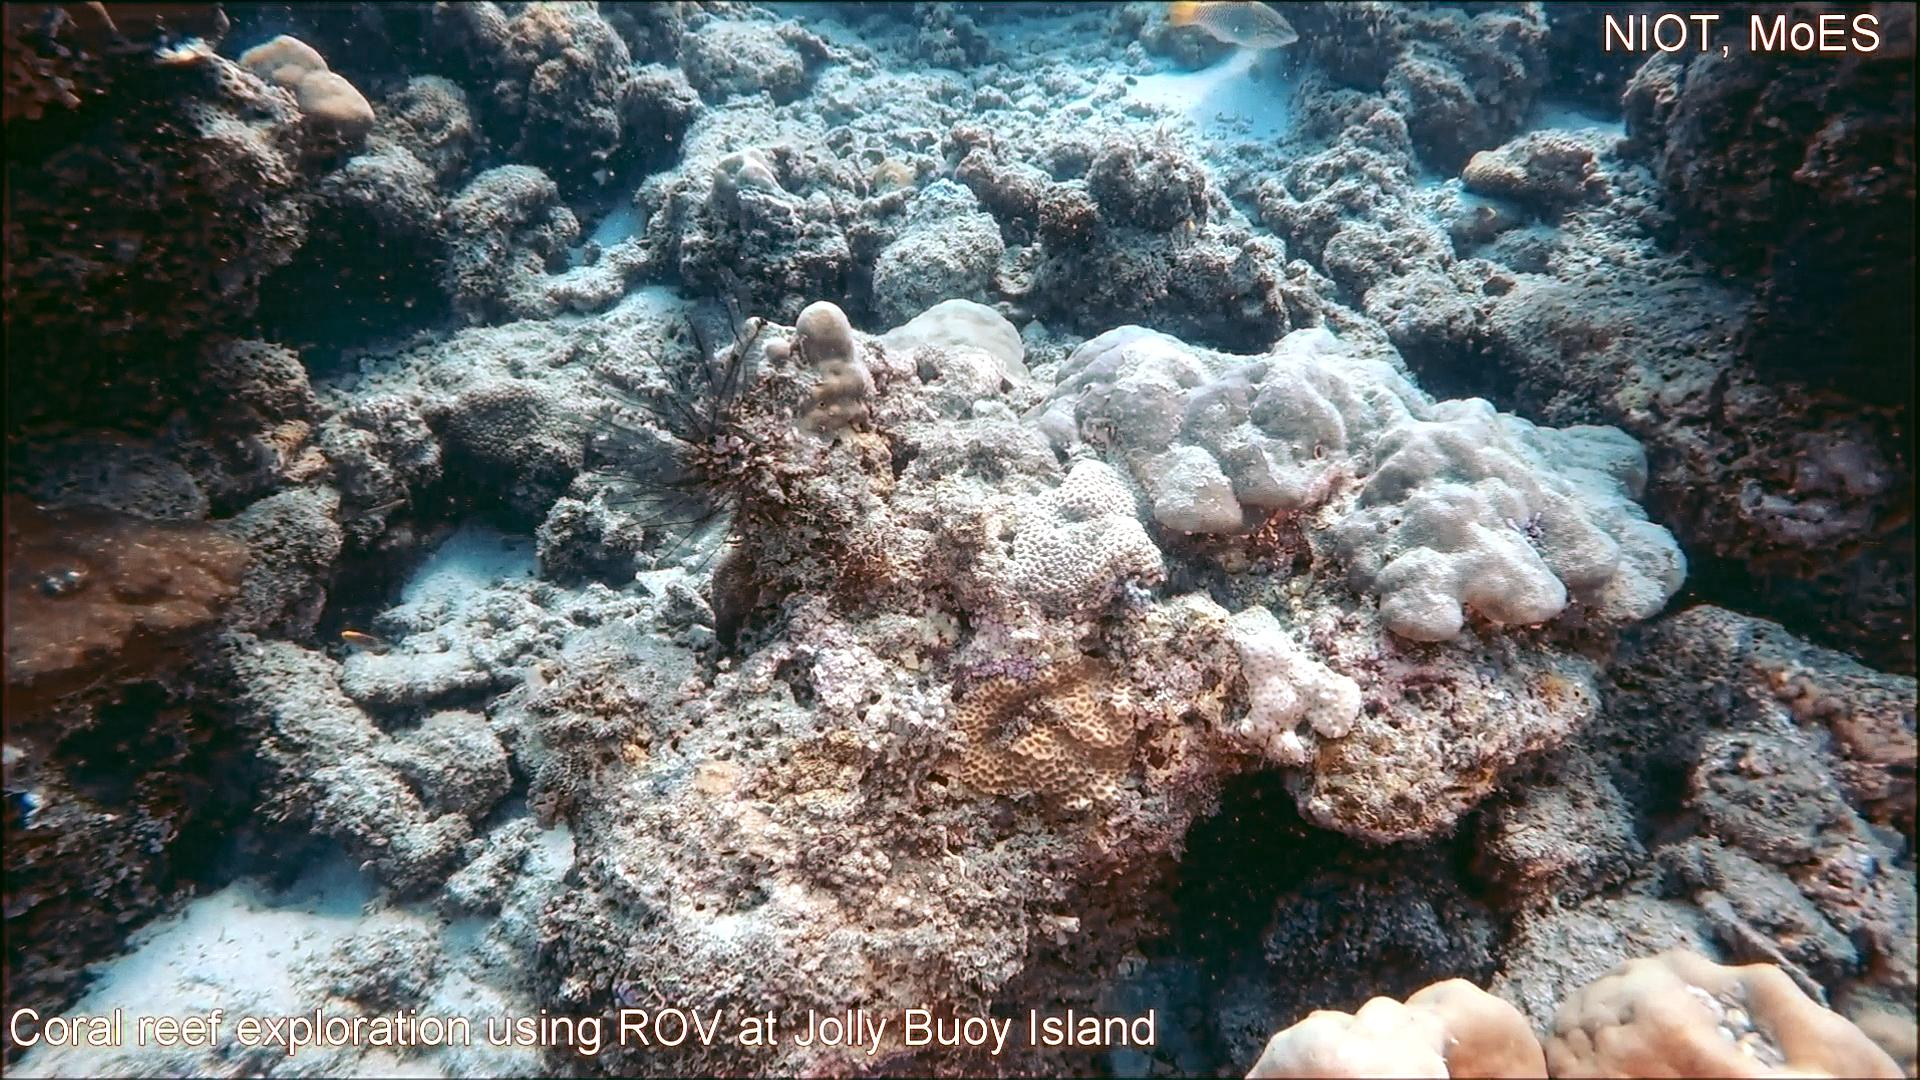Feather star-Crinoid star: (527, 258, 782, 599)
Goniastrea-Goniastrea pectinata: (1006, 448, 1175, 622)
Porites-Porites pukoensis: (1247, 318, 1697, 649)
Turbinaria-Turbinaria stellulata: (440, 375, 587, 476)
